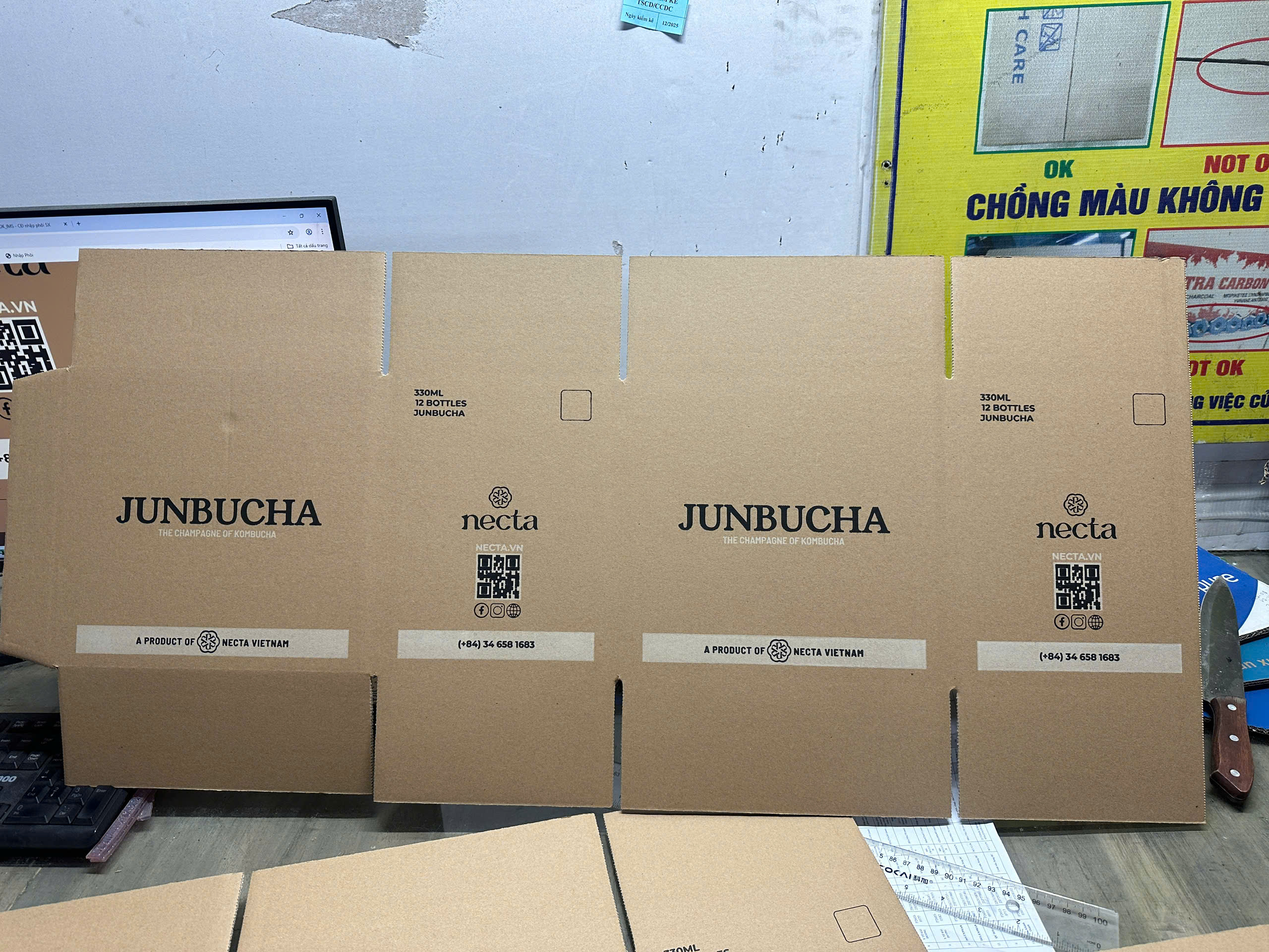box: (0, 248, 1213, 824)
